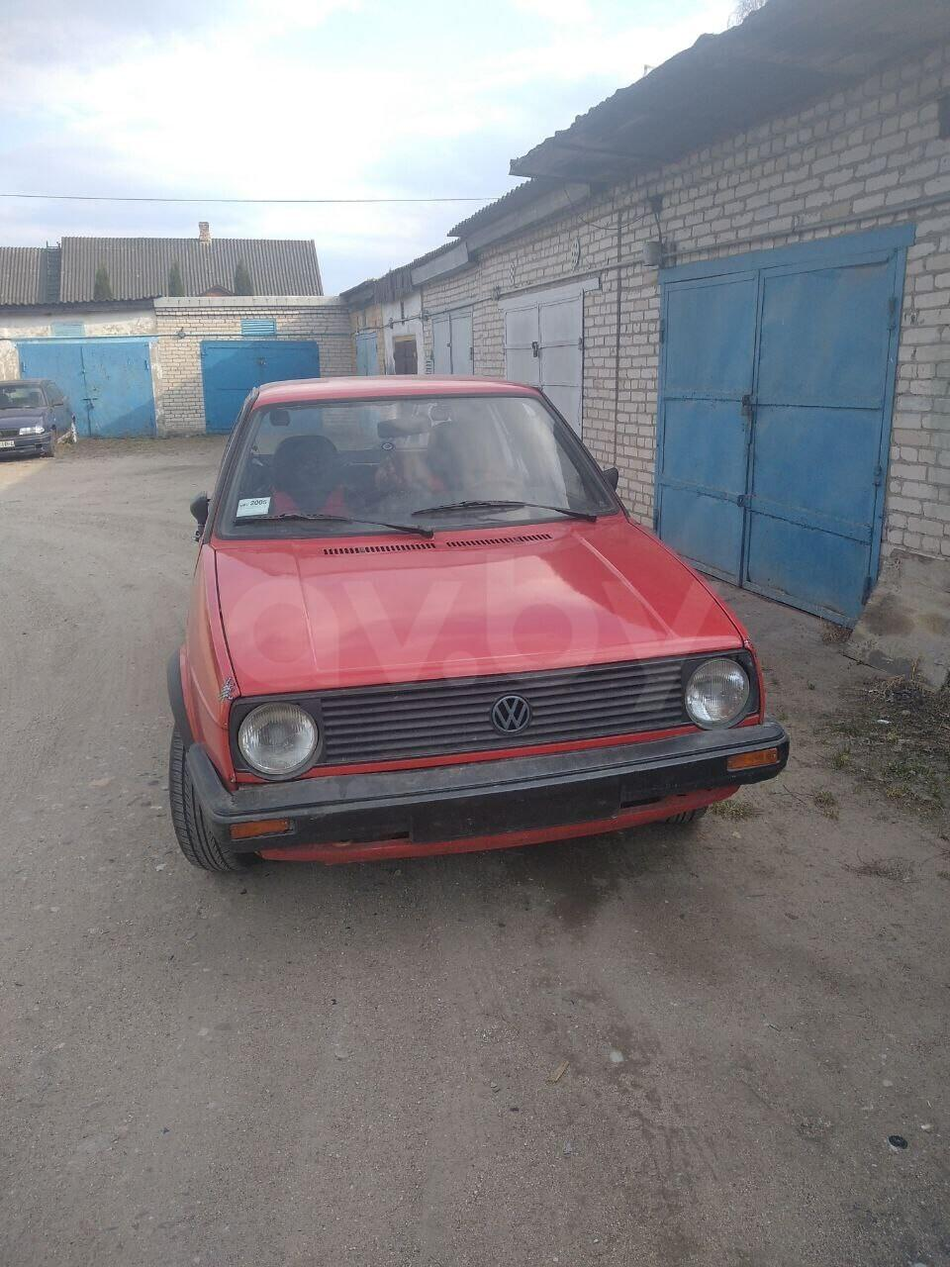Golf_1991-2000: (136, 367, 792, 903)
